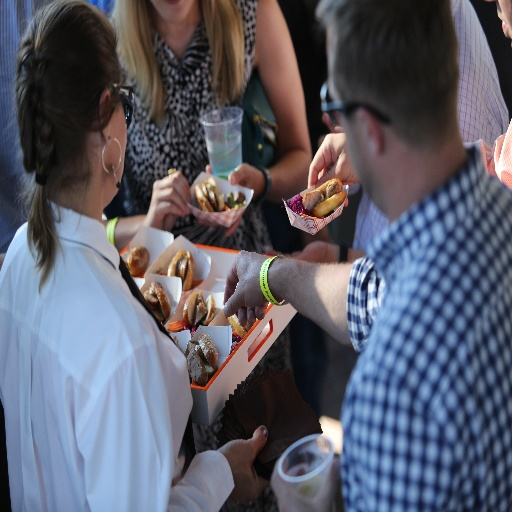hand: (220, 247, 285, 330), (216, 426, 272, 492), (306, 130, 360, 187), (142, 168, 192, 229), (205, 162, 262, 205)
